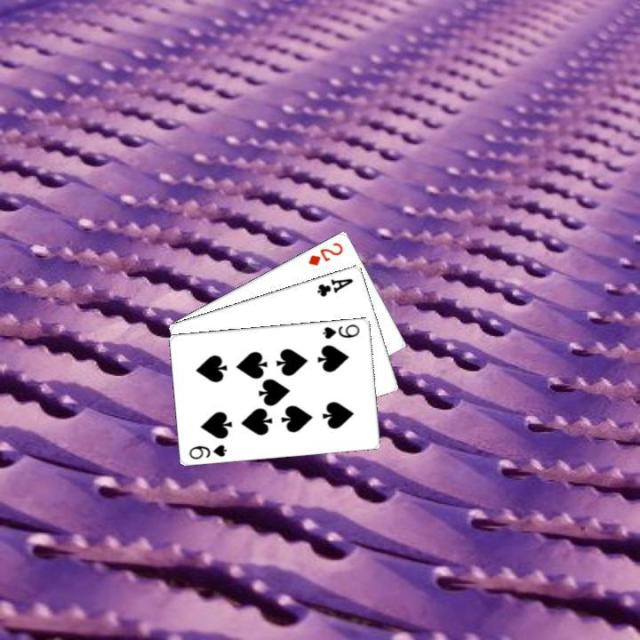2D: (304, 238, 345, 268)
9S: (319, 320, 362, 340), (186, 440, 228, 460)
AC: (313, 274, 355, 298)
